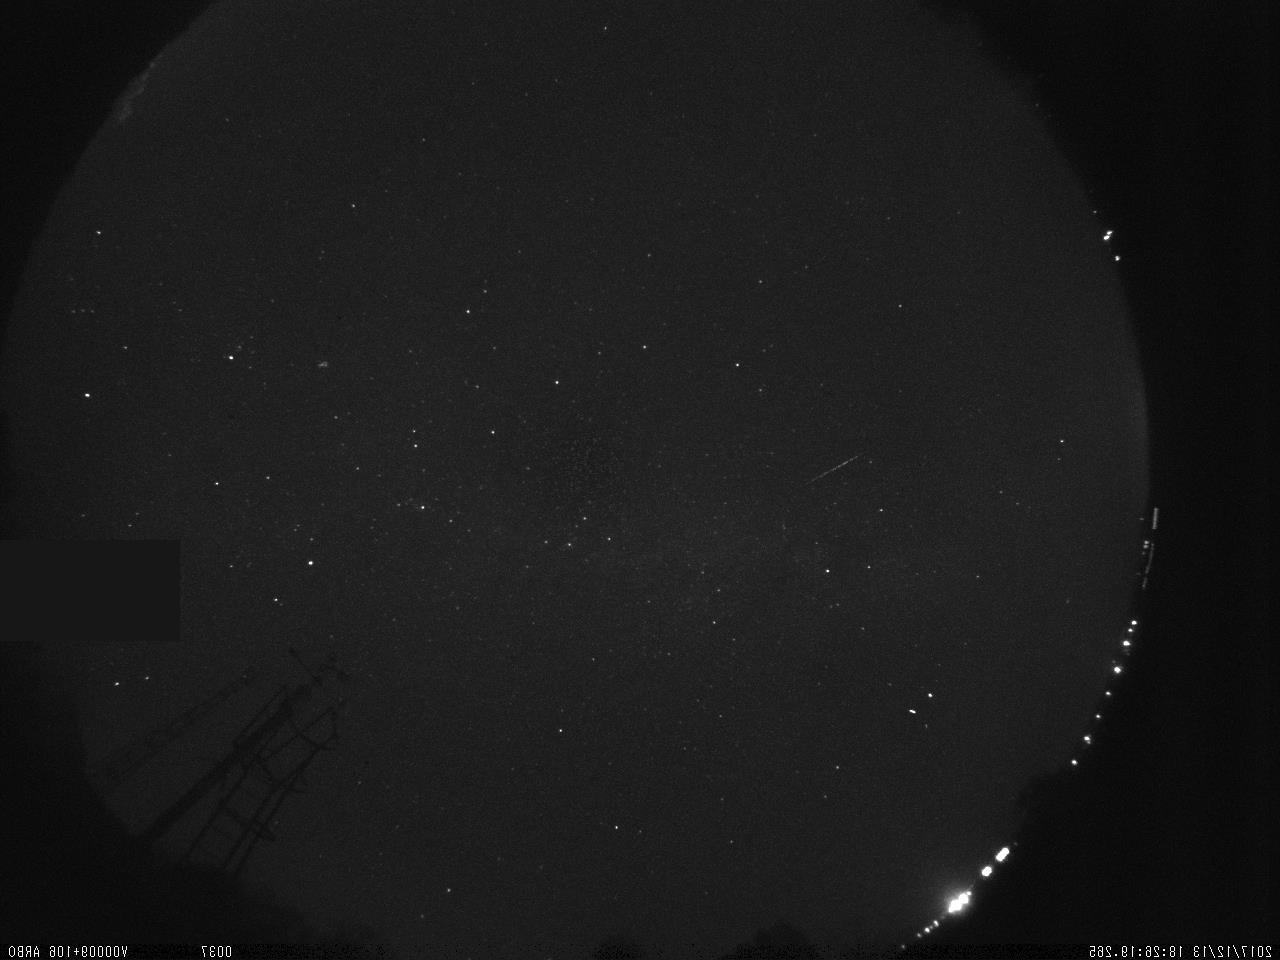meteor: (792, 444, 872, 495)
